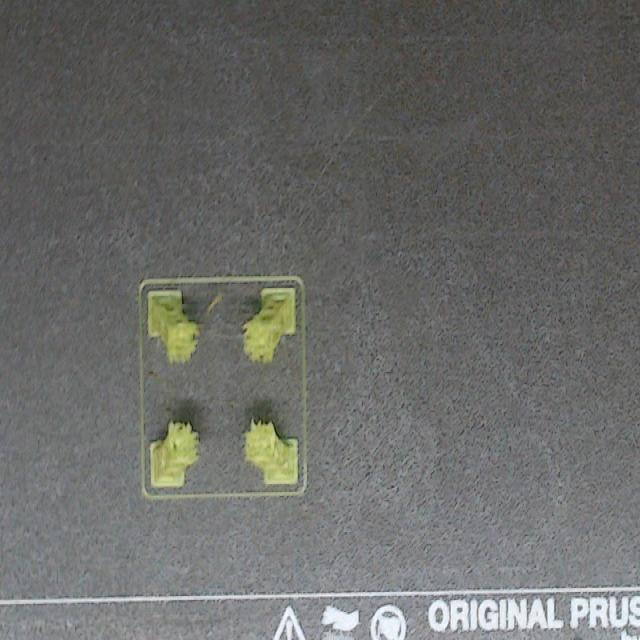mistake: (245, 324, 277, 361), (166, 323, 198, 357), (174, 423, 197, 453), (207, 295, 222, 312)
